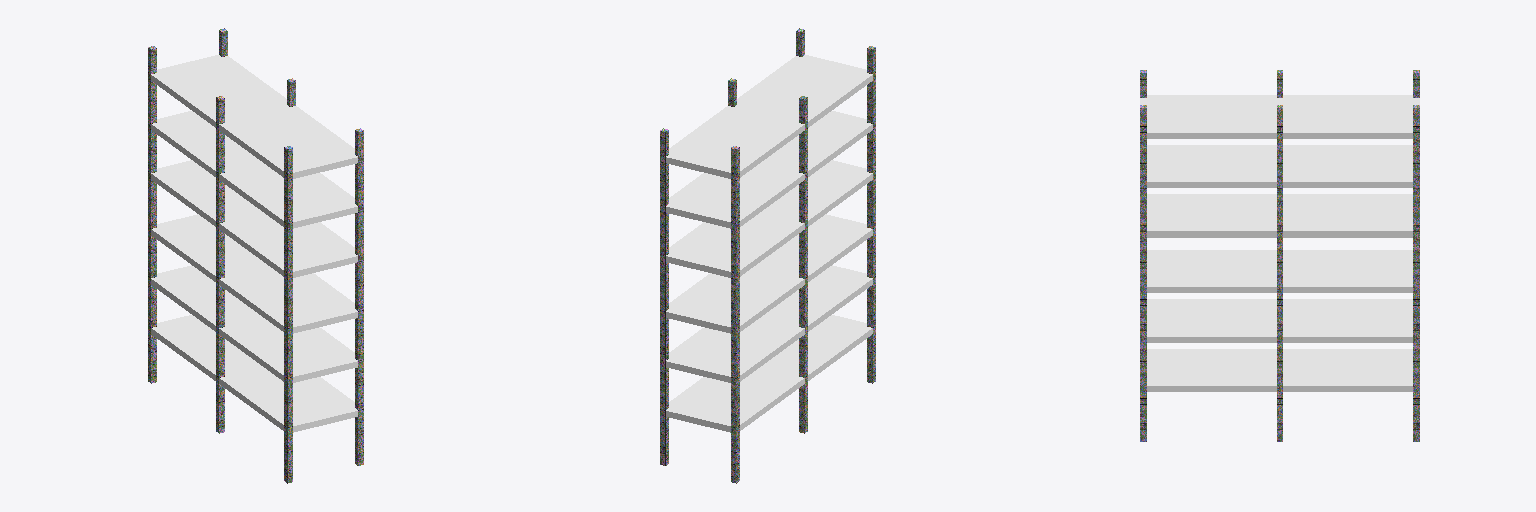
3 views of the same model, side by side, from view 1: azimuth 30°, elevation 25°; view 2: azimuth 150°, elevation 25°; view 3: azimuth 270°, elevation 25° (orthographic).
Parts seen in each view (by area): view 1: MetalRackEnd; view 2: MetalRackEnd; view 3: MetalRackEnd.
Boxes of the visible parts, box(x1,y1,x2,y2) form: MetalRackEnd: box(148, 28, 363, 483); MetalRackEnd: box(660, 28, 875, 483); MetalRackEnd: box(1140, 70, 1419, 441).
Size of the model in its own units: 3.25 by 13.5 by 10.25.
Materials: 2 (1 with a texture image).